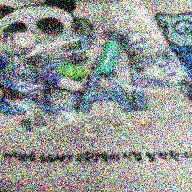러키펜정: (14, 32, 37, 49)
씨엠지세파클러캡슐: (42, 73, 81, 93)
에르도캡슐: (98, 41, 119, 75)
휴티렌정: (56, 64, 89, 79)
